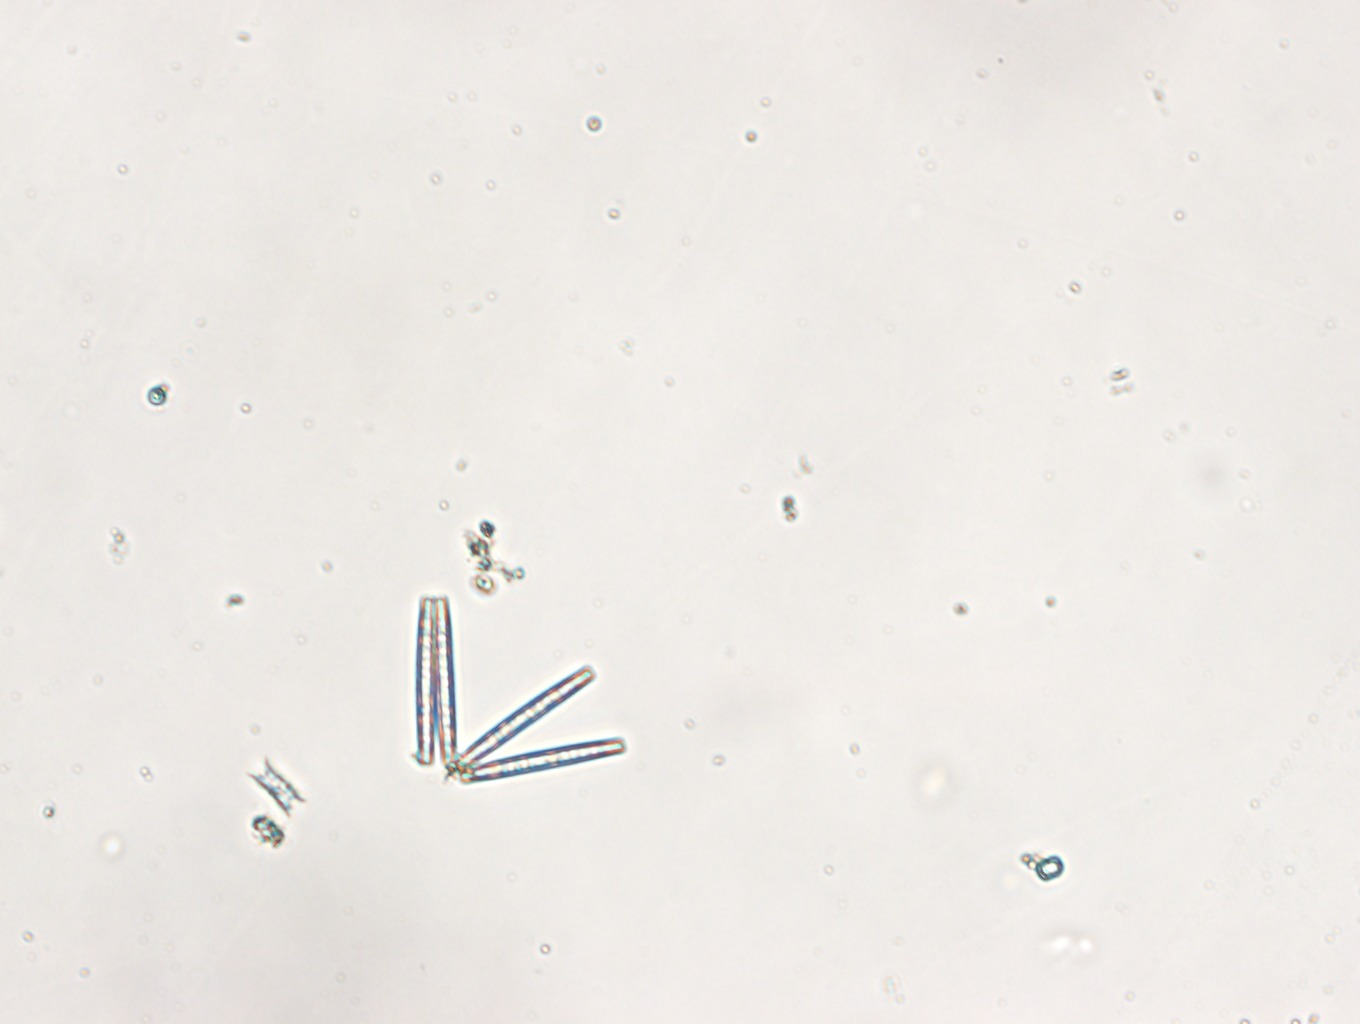thalassionema nitzschioides: (413, 595, 626, 786)
